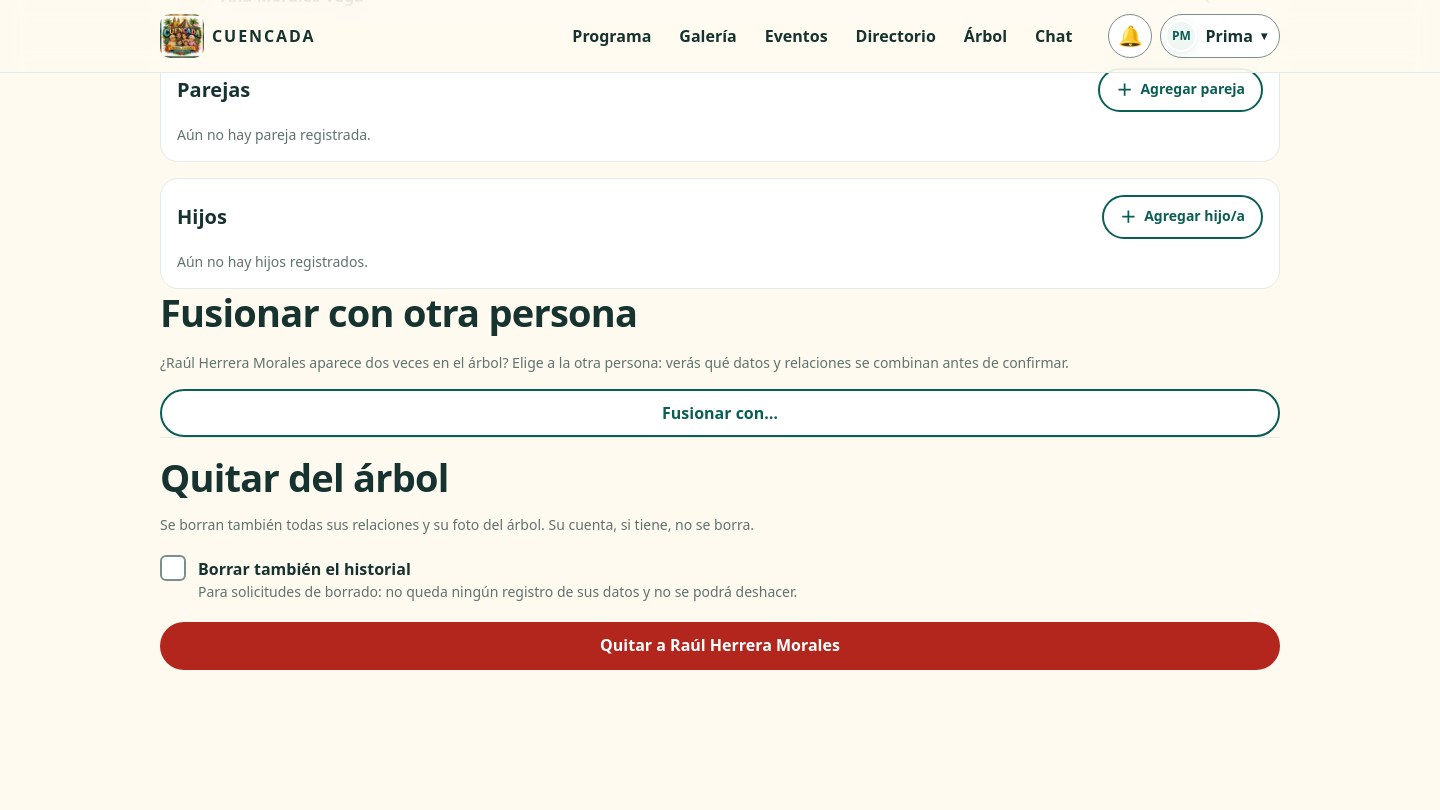
Test case: AdminPersonPage › deletes a person without an account after confirming
(page scrolled)
What coordinates should you click on to do the following:
click the button "Quitar a Raúl Herrera Morales"
I would click on:
 (720, 646)
Its box is [160,622,1280,670].
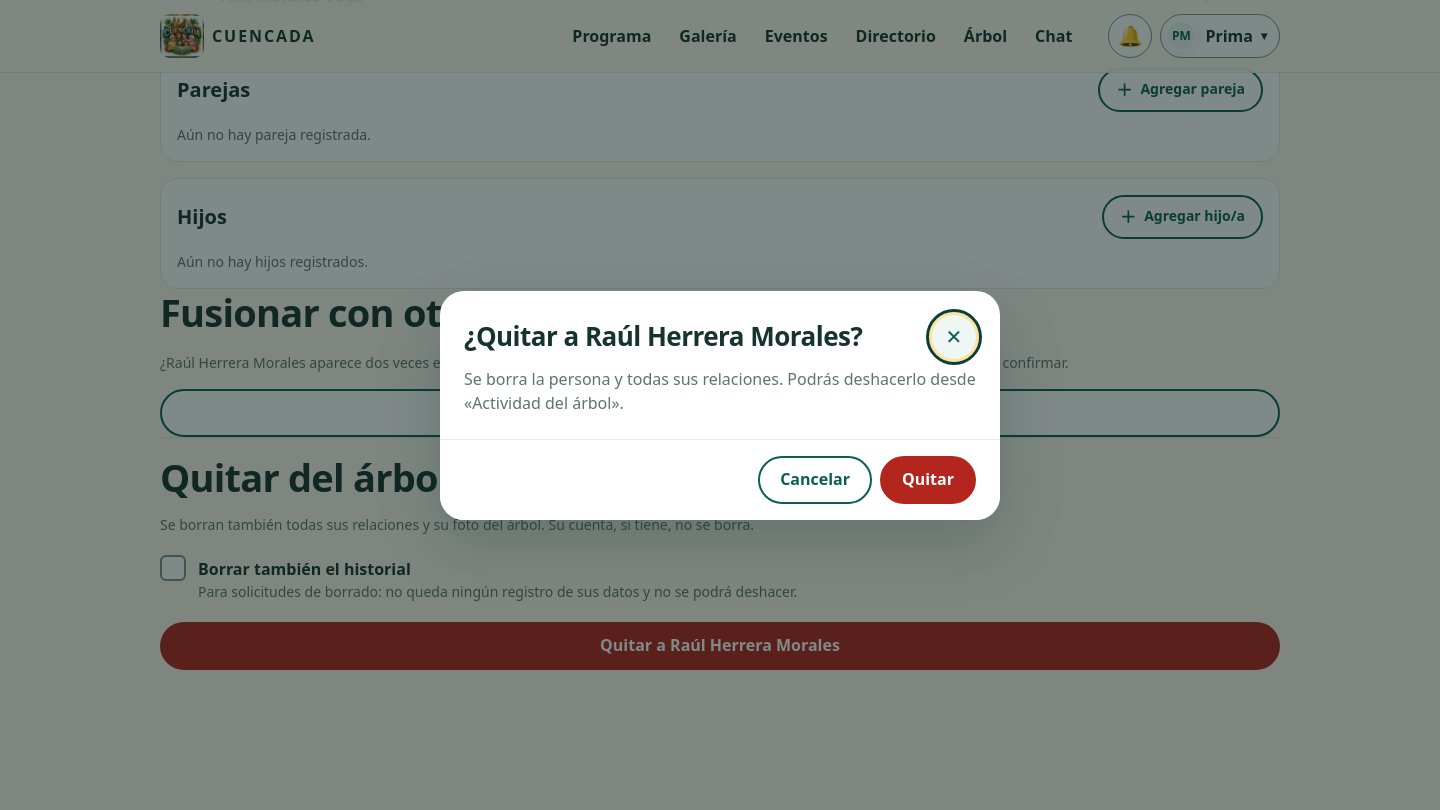
What coordinates should you click on to do the following:
click the button "Quitar"
I would click on:
 (928, 480)
Its box is [880,456,976,504].
(page scrolled)
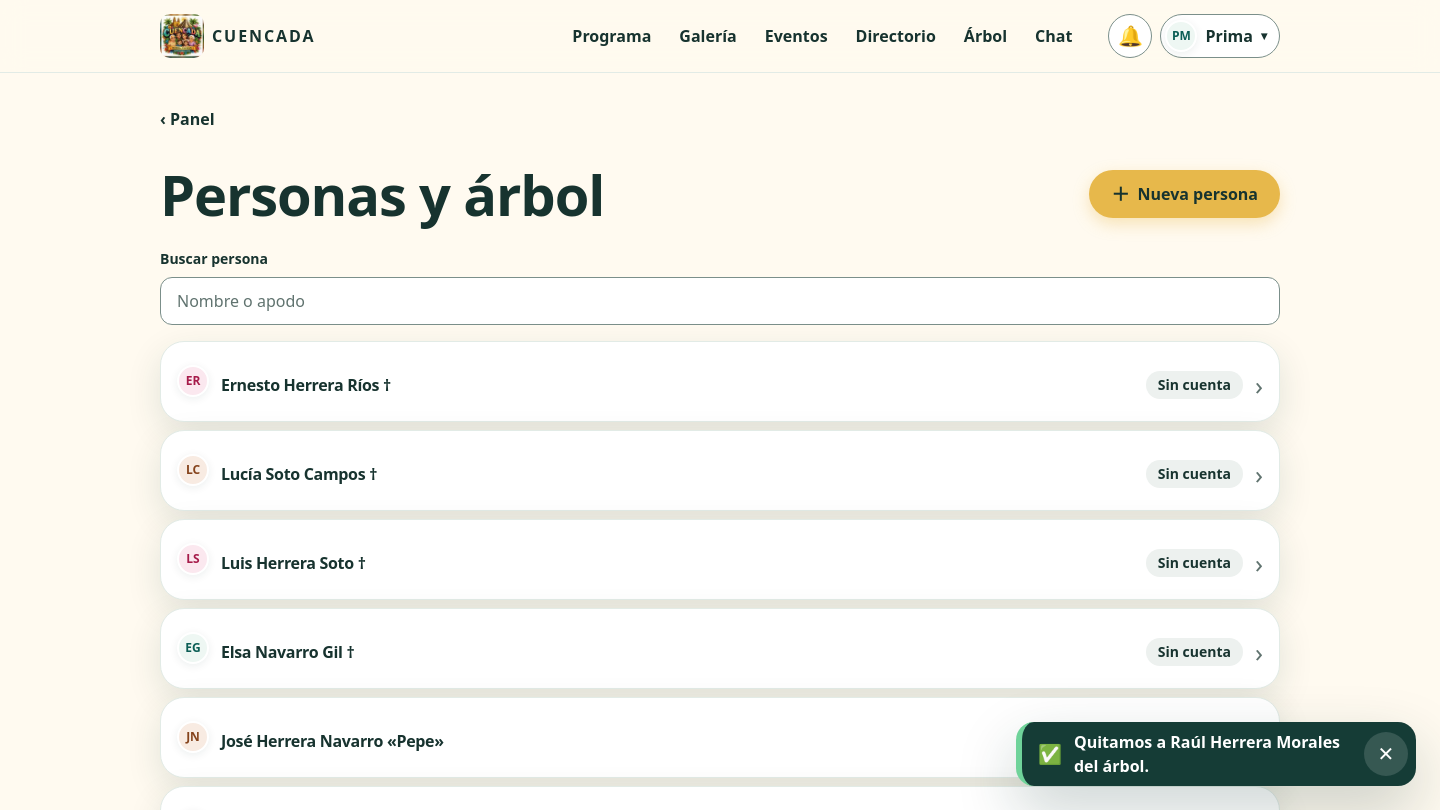
Result: the link "José Herrera Navarro" is shown at [160,697,1280,778]
